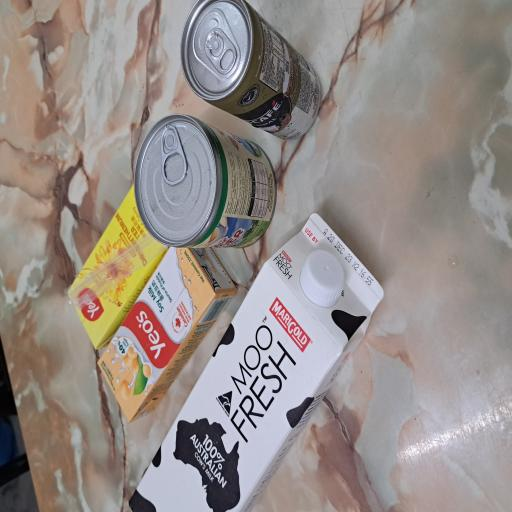can: (281, 238, 384, 430), (199, 180, 299, 370)
drink carton: (0, 169, 226, 511), (68, 129, 203, 316), (124, 88, 248, 226)
plastic bottle cap: (152, 399, 198, 465)
pop tab: (242, 210, 292, 251), (326, 271, 364, 317)
